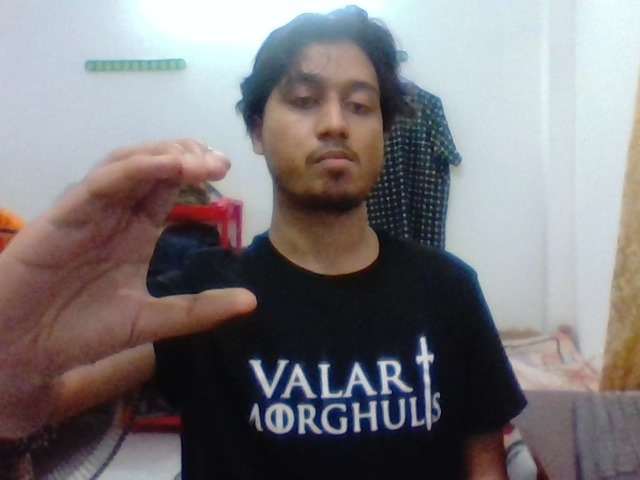C: (43, 129, 270, 350)
